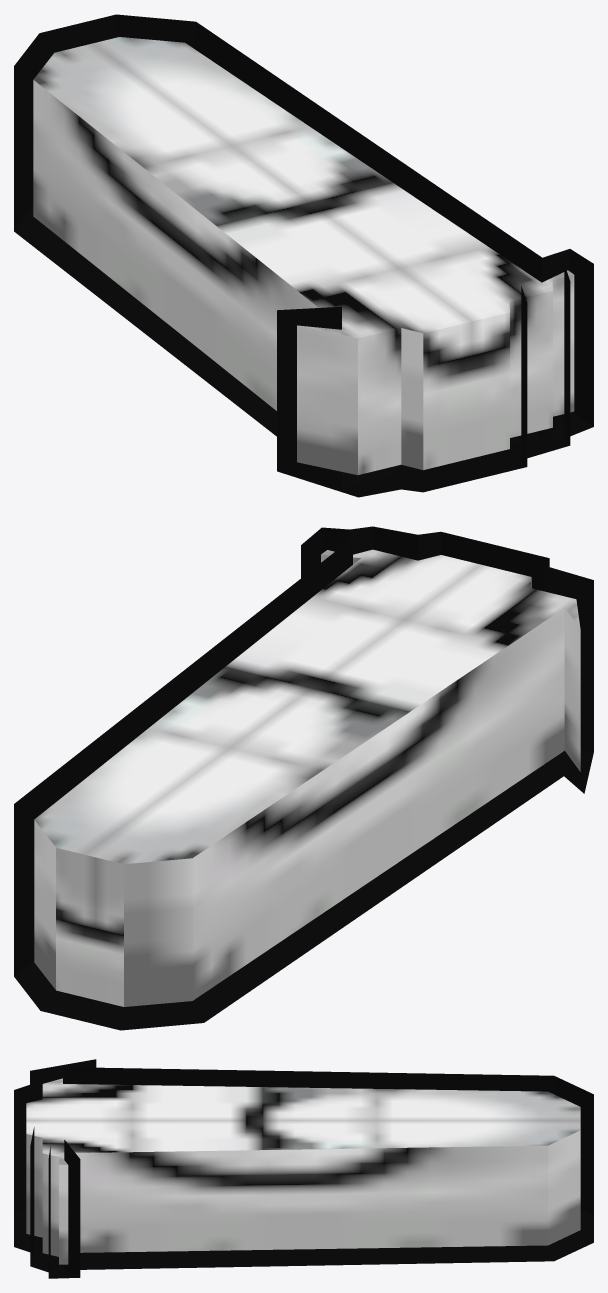
The model's file is Building_Building_KidOutfitStand_Things_Building_OutfitStand_KidOutfitStand_MenuIcon.glb.
The picture shows the model from 3 angles, top to bottom: view 1: azimuth 30°, elevation 25°; view 2: azimuth 150°, elevation 25°; view 3: azimuth 270°, elevation 25°; orthographic projection. The views are drawn at different scales.
Visible parts, largest first — view 1: Body, Outline; view 2: Body, Outline; view 3: Body, Outline.
Part boxes in pixels (bbox=[...]): Body: bbox=[33, 37, 574, 475]; Outline: bbox=[14, 14, 593, 497]; Body: bbox=[34, 549, 580, 1006]; Outline: bbox=[14, 526, 593, 1030]; Body: bbox=[26, 1078, 580, 1264]; Outline: bbox=[14, 1059, 593, 1278].
Size of the model in its own units: 0.41 by 0.2494 by 0.9926.
Materials: 2 (1 with a texture image).
